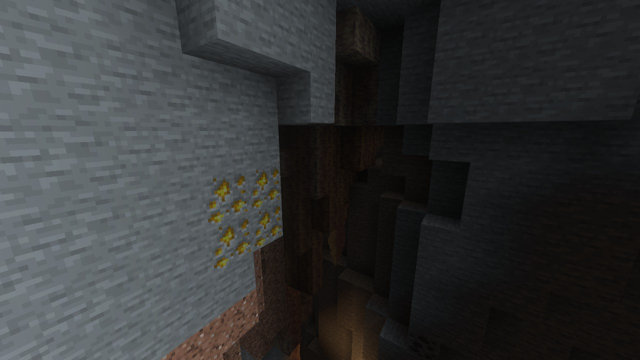coal: (405, 329, 443, 360)
gold: (204, 165, 285, 271)
